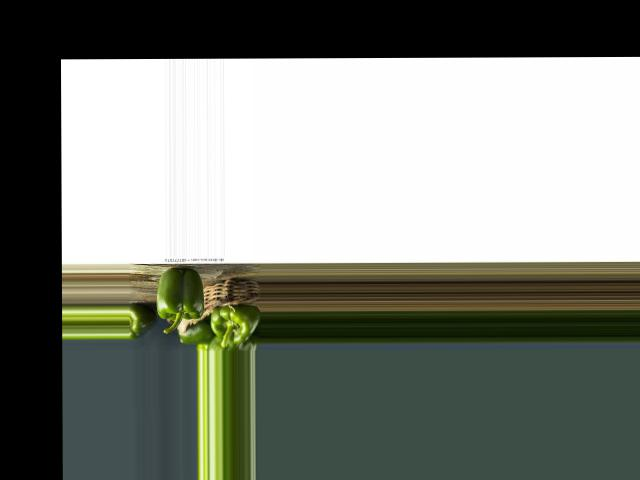bell_pepper: (128, 309, 147, 338)
